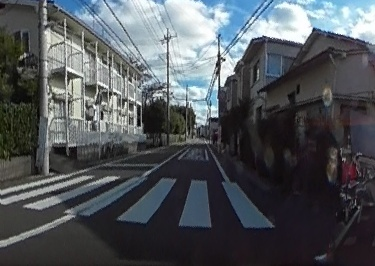person: (367, 51, 375, 252)
